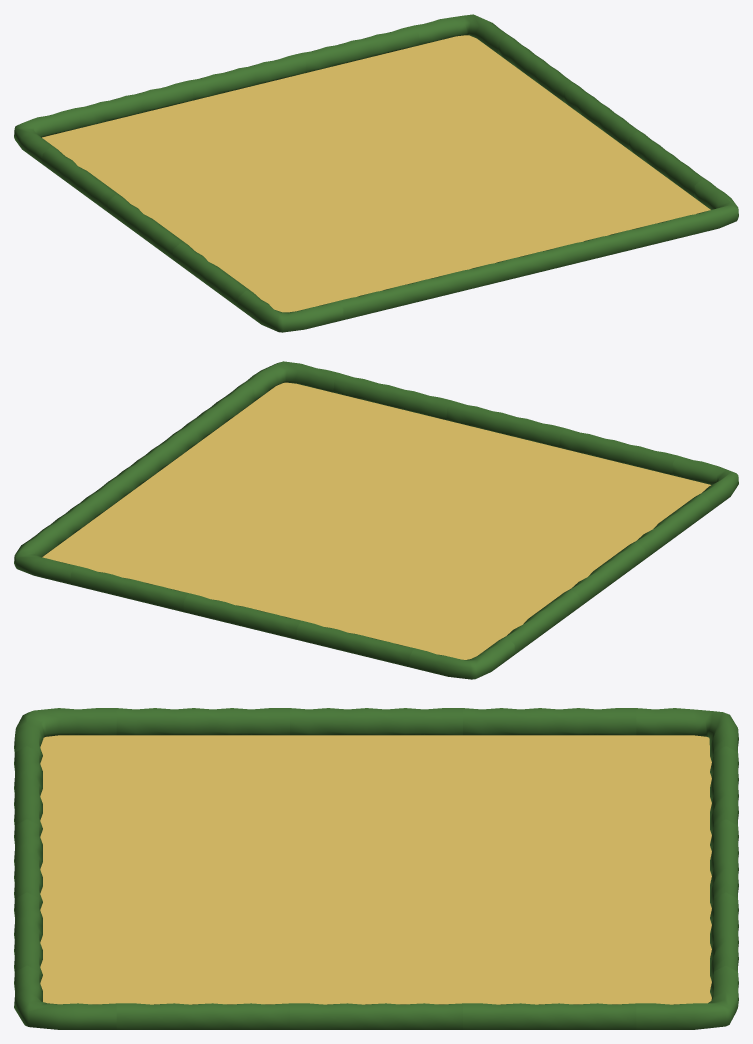
Rendered from Level 1 Environment.gltf.
3 views of the same model, one above another, from view 1: azimuth 30°, elevation 25°; view 2: azimuth 150°, elevation 25°; view 3: azimuth 270°, elevation 25° (orthographic). The views are drawn at different scales.
Parts seen in each view (by area): view 1: Terrain, BorderHedgePiece.008, BorderHedgePiece.006, BorderHedgePiece.007, BorderHedgePiece.009, BorderHedgePiece.010, BorderHedgePiece.011, BorderHedgePieceCrnr, BorderHedgePieceCrnr.003, BorderHedgePieceCrnr.002, BorderHedgePieceCrnr.001, BorderHedgePiece.003 (+5 smaller); view 2: Terrain, BorderHedgePiece.010, BorderHedgePiece.011, BorderHedgePiece.009, BorderHedgePiece.006, BorderHedgePiece.007, BorderHedgePiece.008, BorderHedgePieceCrnr.001, BorderHedgePieceCrnr.003, BorderHedgePieceCrnr.002, BorderHedgePiece.005, BorderHedgePiece.004 (+5 smaller); view 3: Terrain, BorderHedgePiece, BorderHedgePiece.002, BorderHedgePiece.001, BorderHedgePiece.005, BorderHedgePiece.003, BorderHedgePiece.004, BorderHedgePieceCrnr.002, BorderHedgePieceCrnr.003, BorderHedgePieceCrnr, BorderHedgePieceCrnr.001, BorderHedgePiece.006 (+5 smaller).
Part boxes in pixels (bbox=[...]): Terrain: bbox=[42, 35, 710, 312]; BorderHedgePiece.008: bbox=[301, 25, 419, 72]; BorderHedgePiece.006: bbox=[75, 80, 193, 127]; BorderHedgePiece.007: bbox=[188, 53, 306, 100]; BorderHedgePiece.009: bbox=[565, 218, 682, 264]; BorderHedgePiece.010: bbox=[452, 246, 569, 292]; BorderHedgePiece.011: bbox=[339, 273, 456, 320]; BorderHedgePieceCrnr: bbox=[238, 290, 343, 332]; BorderHedgePieceCrnr.003: bbox=[678, 179, 738, 237]; BorderHedgePieceCrnr.002: bbox=[414, 14, 513, 53]; BorderHedgePieceCrnr.001: bbox=[14, 108, 80, 164]; BorderHedgePiece.003: bbox=[498, 36, 578, 101]; Terrain: bbox=[42, 382, 710, 659]; BorderHedgePiece.010: bbox=[446, 400, 564, 447]; BorderHedgePiece.011: bbox=[559, 428, 677, 475]; BorderHedgePiece.009: bbox=[333, 373, 451, 420]; BorderHedgePiece.006: bbox=[296, 620, 413, 667]; BorderHedgePiece.007: bbox=[183, 593, 300, 639]; BorderHedgePiece.008: bbox=[70, 565, 188, 612]; BorderHedgePieceCrnr.001: bbox=[409, 637, 514, 679]; BorderHedgePieceCrnr.003: bbox=[239, 361, 338, 401]; BorderHedgePieceCrnr.002: bbox=[14, 526, 75, 584]; BorderHedgePiece.005: bbox=[174, 383, 254, 448]; BorderHedgePiece.004: bbox=[109, 431, 189, 496]; Terrain: bbox=[40, 735, 711, 1004]; BorderHedgePiece: bbox=[116, 708, 289, 735]; BorderHedgePiece.002: bbox=[463, 708, 636, 735]; BorderHedgePiece.001: bbox=[290, 708, 462, 735]; BorderHedgePiece.005: bbox=[116, 1003, 289, 1029]; BorderHedgePiece.003: bbox=[463, 1003, 636, 1029]; BorderHedgePiece.004: bbox=[290, 1003, 462, 1029]; BorderHedgePieceCrnr.002: bbox=[636, 965, 738, 1029]; BorderHedgePieceCrnr.003: bbox=[14, 965, 116, 1029]; BorderHedgePieceCrnr: bbox=[14, 708, 116, 763]; BorderHedgePieceCrnr.001: bbox=[636, 708, 738, 761]; BorderHedgePiece.006: bbox=[710, 746, 738, 834].
Size of the model in its own units: 41.86 by 1.43 by 41.86.
